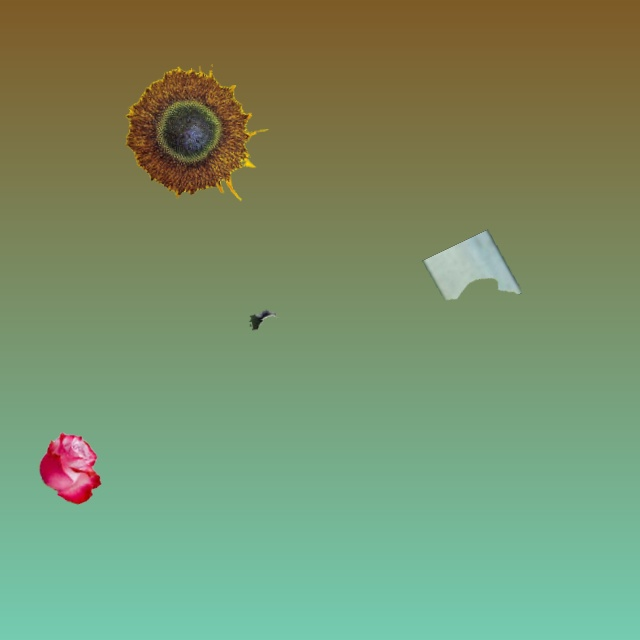jasmine: (250, 310, 278, 329)
passion flower: (422, 230, 521, 299)
rose: (39, 433, 101, 503)
sunflower: (126, 67, 267, 199)
